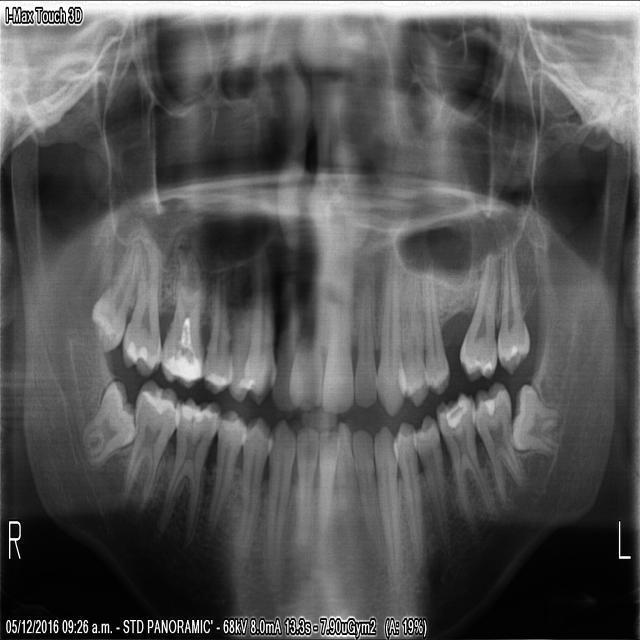LCD: (351, 422, 389, 563)
LCU: (374, 266, 407, 411)
LID: (333, 417, 368, 534), (315, 423, 336, 542)
LIU: (323, 252, 356, 414), (353, 256, 378, 405)
LMD: (433, 392, 495, 525), (468, 375, 529, 507), (410, 410, 457, 559), (509, 377, 558, 460)
LMU: (493, 242, 532, 373), (457, 252, 498, 376)
LPMD: (390, 418, 426, 574), (372, 418, 404, 565)
LPMU: (419, 273, 452, 397), (403, 268, 430, 408)
RCD: (229, 410, 275, 562)
RCU: (241, 245, 276, 404)
RID: (263, 415, 295, 557), (289, 419, 319, 535)
RIU: (287, 230, 327, 416), (267, 237, 305, 417)
RMD: (118, 380, 181, 511), (77, 374, 136, 467)
RMU: (89, 224, 146, 353), (119, 237, 162, 375), (158, 268, 204, 395)
RPMD: (159, 393, 219, 540), (207, 408, 248, 524)
RPMU: (200, 264, 233, 395), (228, 263, 253, 402)
